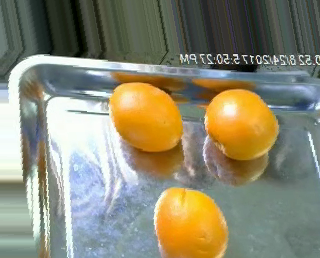Orange: (203, 88, 278, 160), (153, 186, 228, 258), (110, 81, 183, 151)
